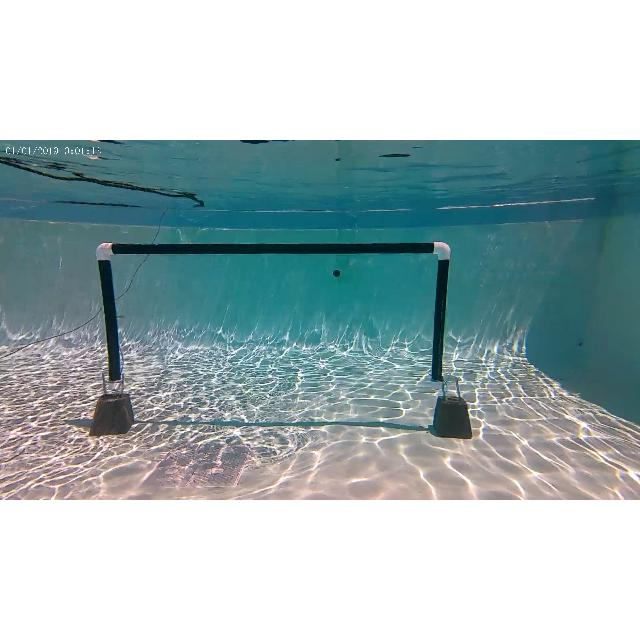prequal gate: (95, 239, 452, 389)
prequal gate leg l: (94, 240, 128, 390)
prequal gate leg r: (431, 242, 451, 391)
